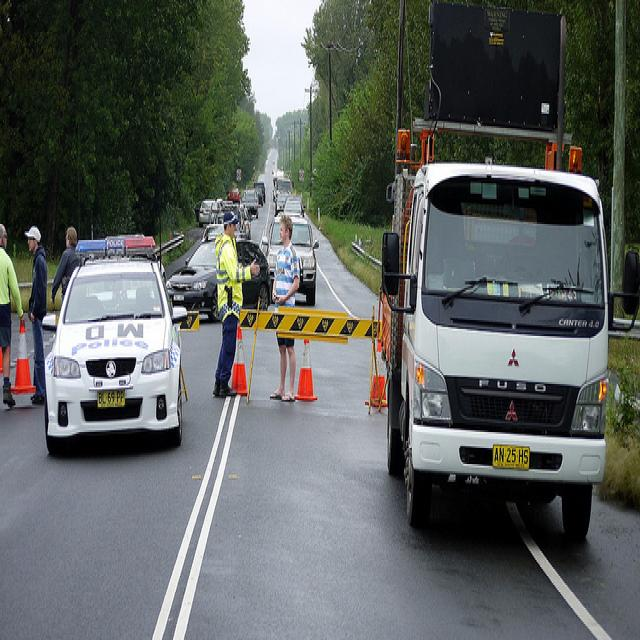Vehicle: (376, 118, 638, 542), (46, 233, 182, 451), (166, 214, 322, 321), (209, 198, 238, 227), (239, 187, 259, 219), (194, 198, 216, 225), (282, 194, 304, 216), (253, 181, 266, 207)
